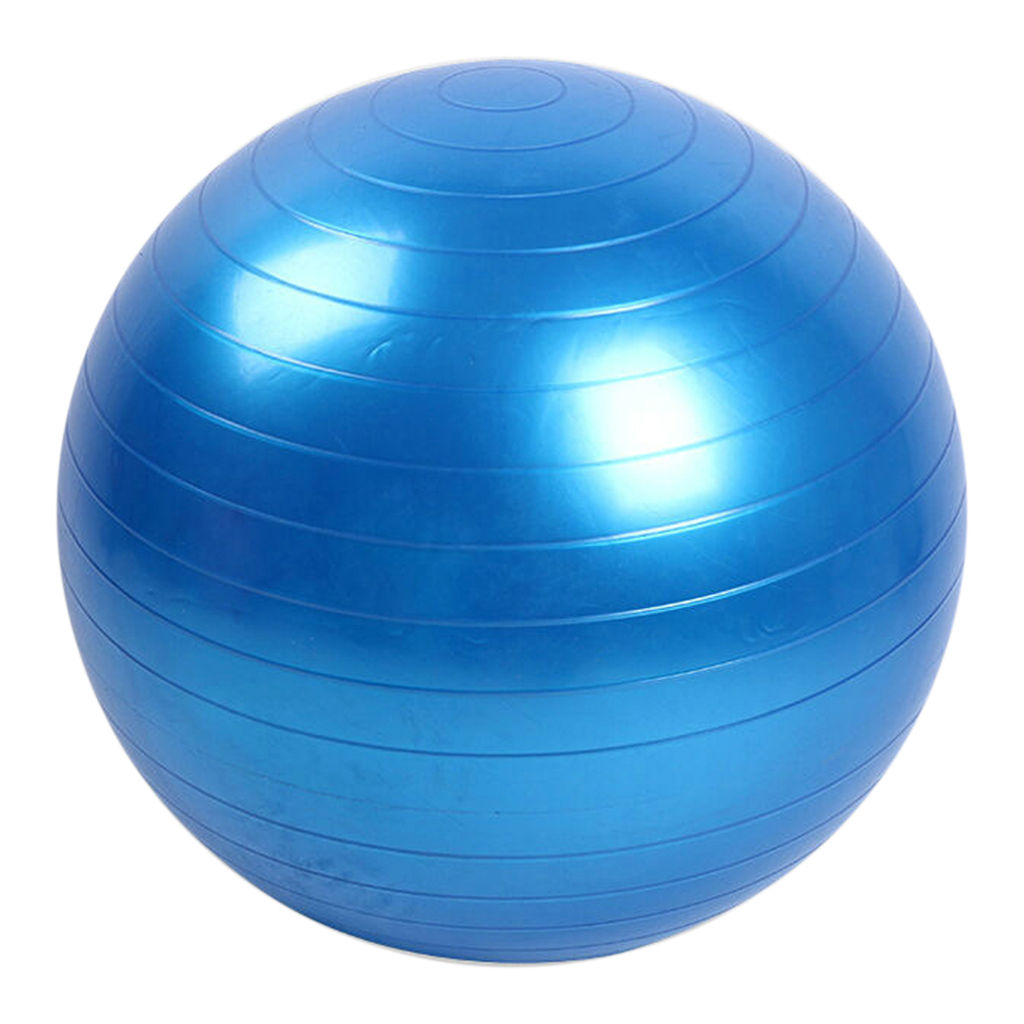yogaball: (47, 53, 977, 976)
